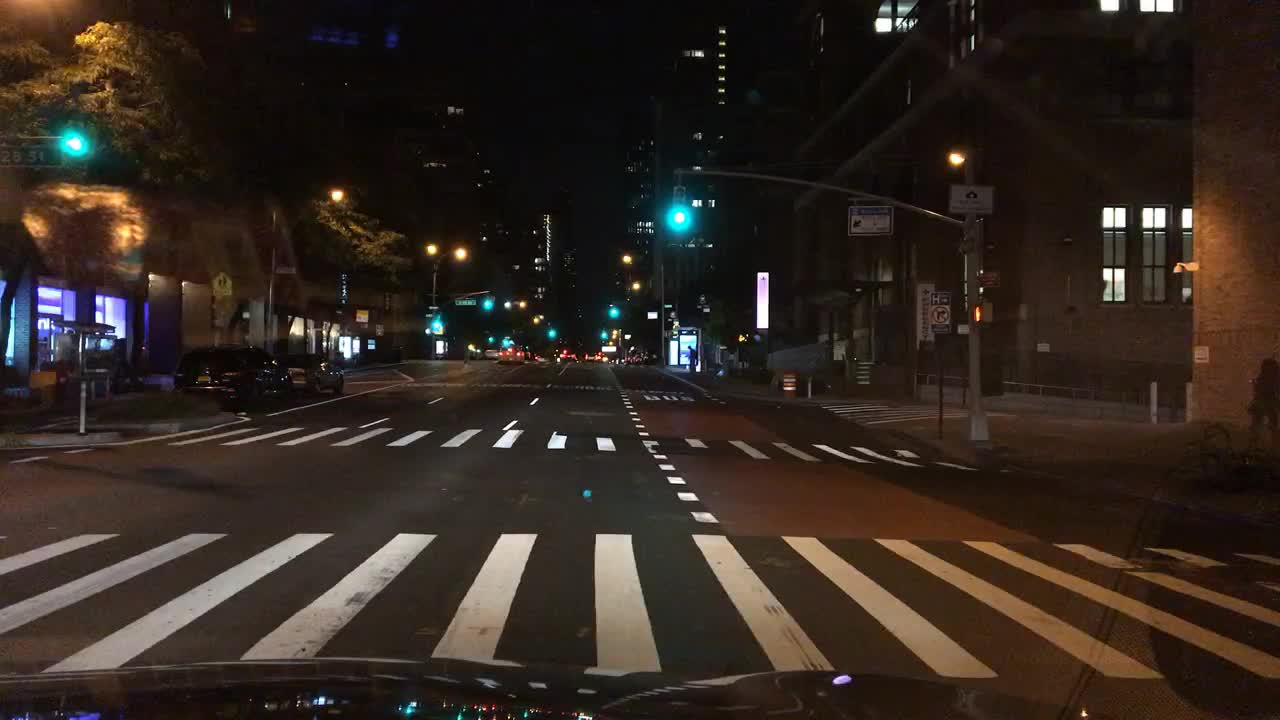car: (168, 339, 297, 409), (272, 350, 347, 396), (495, 343, 527, 365), (516, 343, 534, 361), (557, 347, 578, 362), (481, 344, 500, 359), (591, 349, 607, 362), (581, 351, 596, 361)
person: (684, 342, 700, 376)
traffic light: (63, 125, 88, 166), (670, 185, 687, 228), (971, 300, 993, 324), (481, 294, 493, 311), (545, 328, 558, 340), (429, 318, 440, 329), (500, 336, 510, 347), (608, 307, 618, 318), (598, 329, 608, 339), (487, 336, 495, 342)
traffic sign: (0, 142, 70, 169), (946, 181, 994, 214), (845, 204, 894, 236), (926, 289, 954, 334), (210, 270, 233, 297), (927, 301, 952, 325), (975, 269, 1001, 286), (354, 308, 370, 322), (275, 264, 297, 273), (599, 343, 622, 351), (451, 298, 477, 305), (645, 310, 659, 319), (425, 303, 439, 310), (662, 301, 672, 309), (423, 311, 434, 318), (623, 332, 632, 340)
